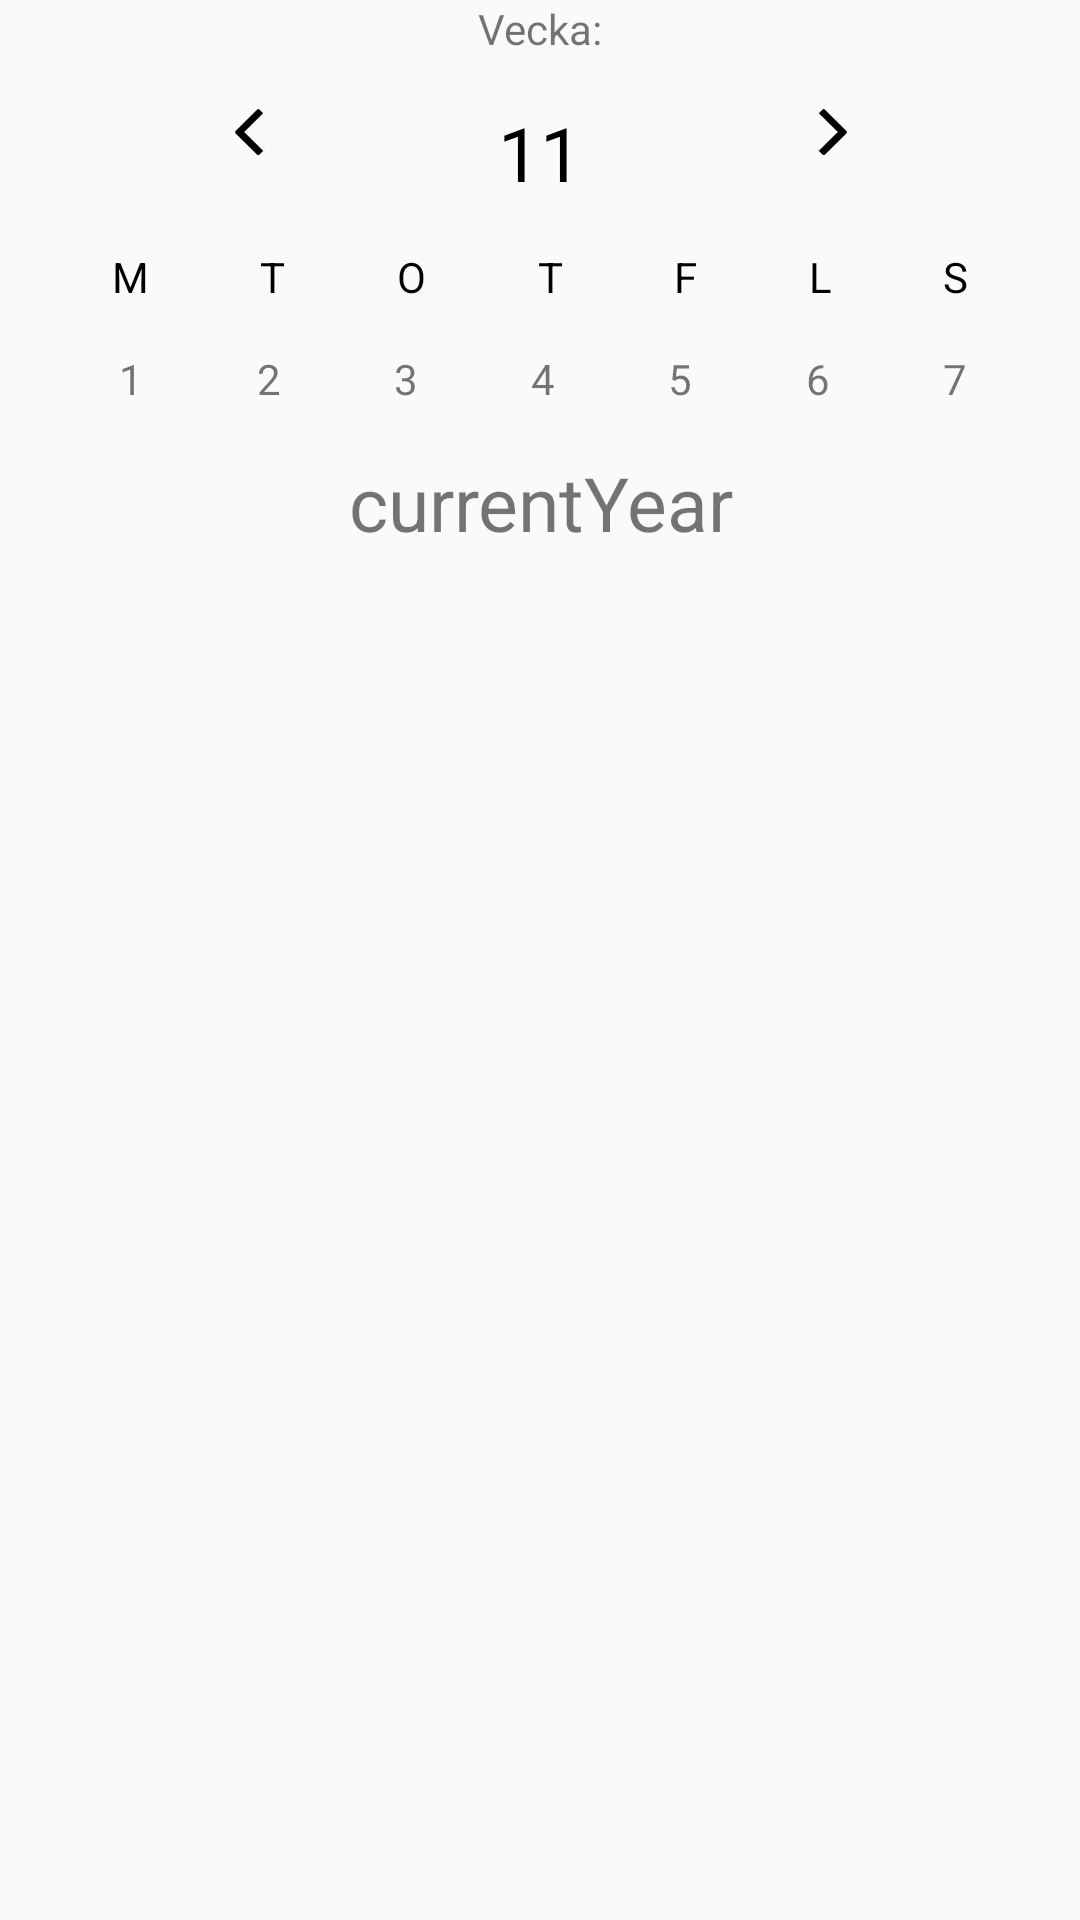

Where icons sit on this 1080*1920 app screen, as BBox(x1, y1, x2, y2):
arrow left: BBox(235, 109, 263, 155)
arrow right: BBox(819, 109, 847, 155)
